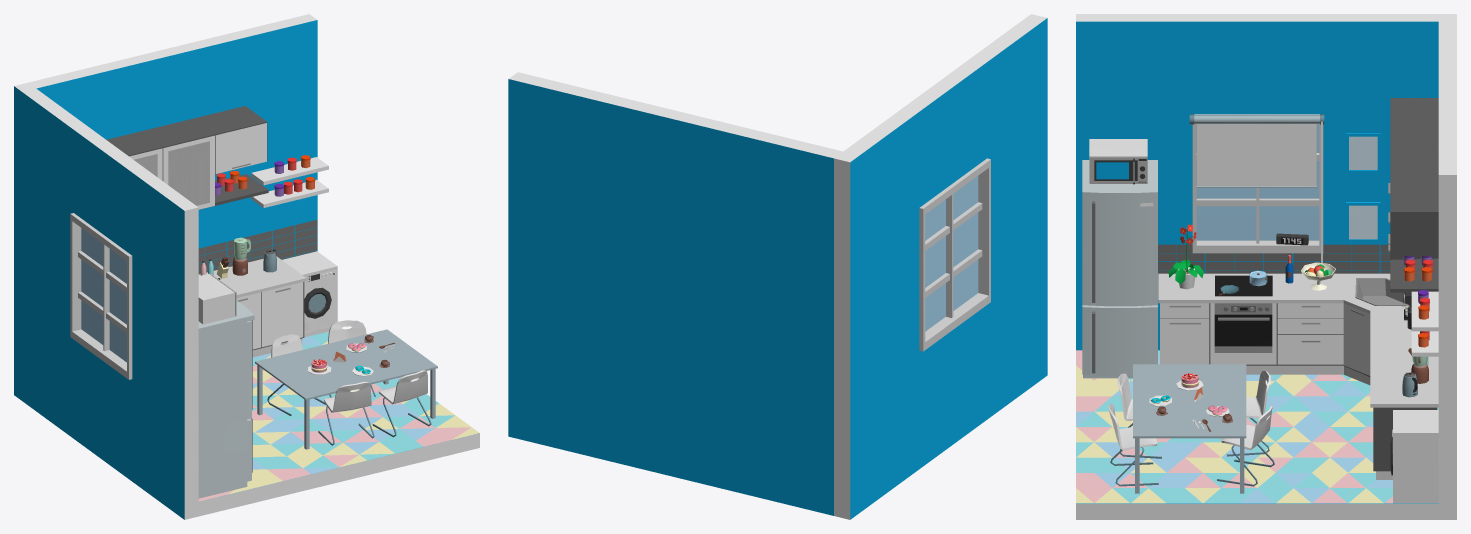
The model's file is room_5.glb.
3 renders of one model, left to right at view 1: azimuth 30°, elevation 25°; view 2: azimuth 150°, elevation 25°; view 3: azimuth 270°, elevation 25°, orthographic. The views are drawn at different scales.
Parts seen in each view (by area): view 1: Walls_075.007, Walls_075.010, Walls_075.009, floor_019.001, kitchen_item_020.001, kitchen_item_034.001, window_020.001, kitchen_table_007.001, Walls_075.011, Walls_075.012, kitchen_item_005.001, Walls_075.008 (+12 smaller); view 2: Walls_075.007, Walls_075.009, Walls_075.010, window_020.001, Walls_075.011, Walls_075.012; view 3: floor_019.001, kitchen_item_005.001, Walls_075.010, Walls_075.009, kitchen_item_020.001, Walls_075.012, Walls_075.007, Curtains_023.001, kitchen_item_034.001, window_020.001, kitchen_table_007.001, Walls_075.008 (+19 smaller).
Part boxes in pixels (x1,y1,x2,y2): Walls_075.007: [28, 14, 317, 271]; Walls_075.010: [131, 169, 198, 519]; Walls_075.009: [14, 82, 88, 439]; floor_019.001: [198, 328, 479, 501]; kitchen_item_020.001: [198, 300, 254, 498]; kitchen_item_034.001: [106, 106, 268, 209]; window_020.001: [70, 213, 132, 379]; kitchen_table_007.001: [255, 329, 437, 449]; Walls_075.011: [75, 341, 131, 480]; Walls_075.012: [75, 127, 145, 254]; kitchen_item_005.001: [198, 256, 306, 357]; Walls_075.008: [198, 433, 479, 516]; Walls_075.007: [508, 72, 842, 515]; Walls_075.009: [834, 107, 920, 519]; Walls_075.010: [970, 14, 1047, 419]; window_020.001: [919, 158, 990, 351]; Walls_075.011: [920, 306, 986, 467]; Walls_075.012: [904, 58, 986, 206]; floor_019.001: [1076, 350, 1438, 503]; kitchen_item_005.001: [1158, 273, 1438, 479]; Walls_075.010: [1076, 14, 1193, 350]; Walls_075.009: [1321, 14, 1456, 273]; kitchen_item_020.001: [1082, 160, 1157, 378]; Walls_075.012: [1194, 14, 1320, 114]; Walls_075.007: [1438, 21, 1456, 519]; Curtains_023.001: [1189, 114, 1324, 262]; kitchen_item_034.001: [1388, 98, 1438, 292]; window_020.001: [1192, 114, 1323, 253]; kitchen_table_007.001: [1133, 364, 1246, 493]; Walls_075.008: [1076, 503, 1438, 519].
Bounding box in the file's own units: 4.25 × 4.2 × 4.2.
Materials: 1 (1 with a texture image).
